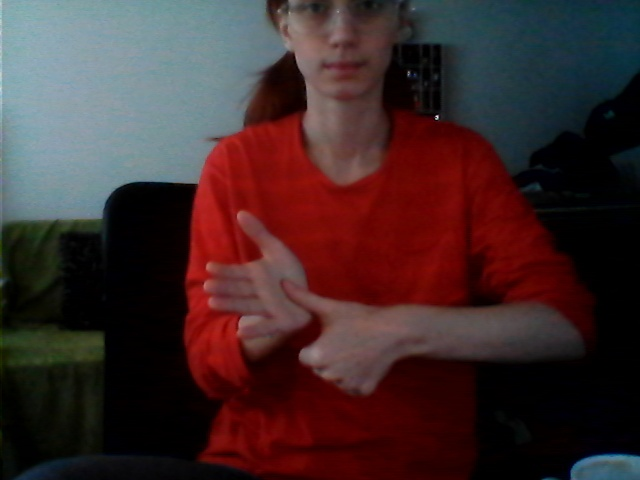pivo: (195, 207, 396, 416)
